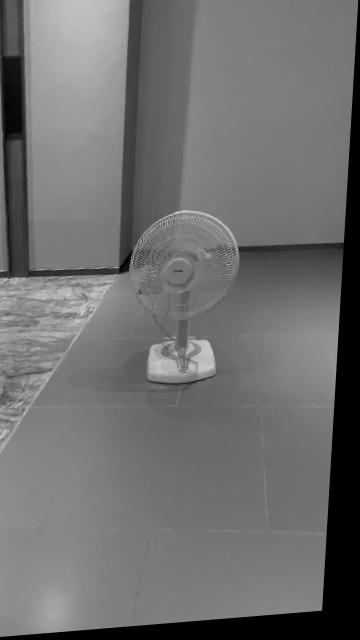Fan: (133, 213, 243, 388)
